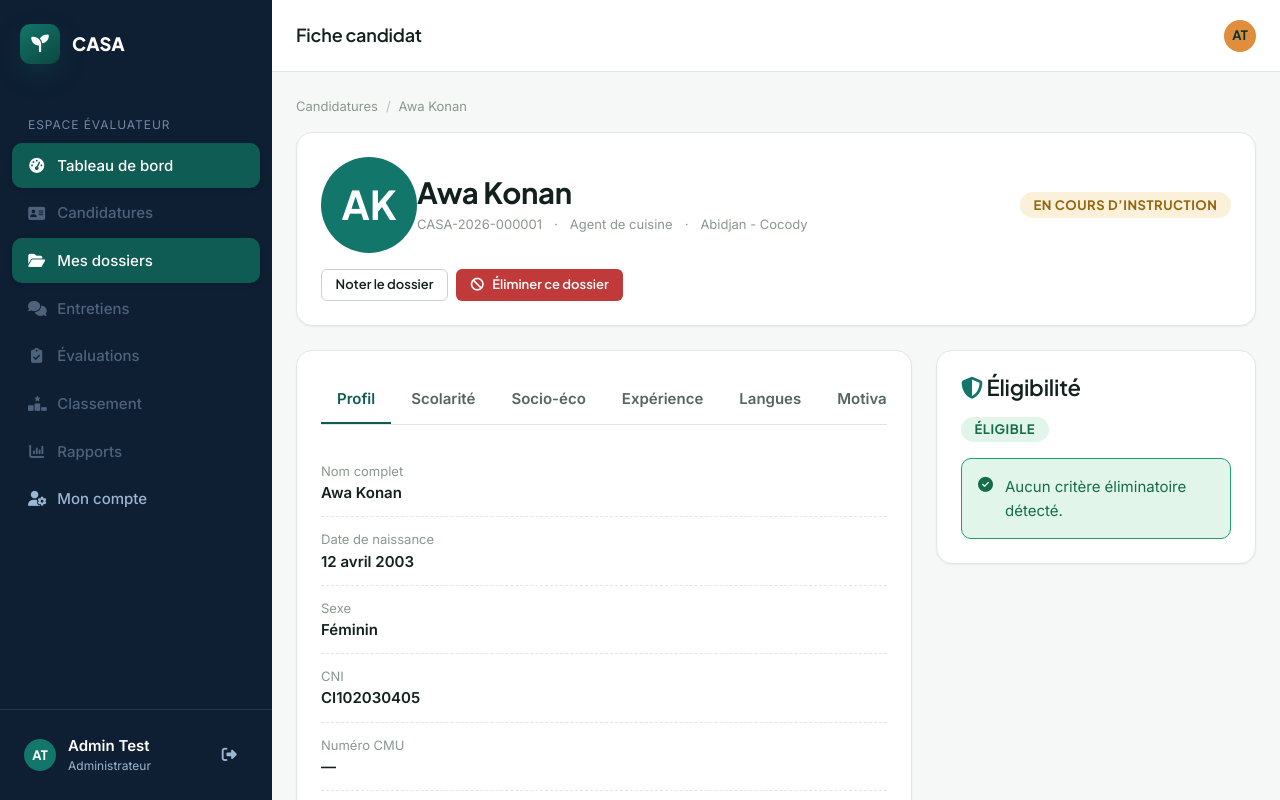
Test case: FicheCandidat — élimination manuelle (Lot 8d-3, administrateur uniquement) › 422 (motif jugé insuffisant côté backend) -> message affiché verbatim, le modal reste ouvert
Expected: the heading "Awa Konan" is shown, x1=417 y1=174 x2=572 y2=211
Click the button "Éliminer ce dossier".
click(540, 285)  # box x1=456 y1=269 x2=623 y2=301
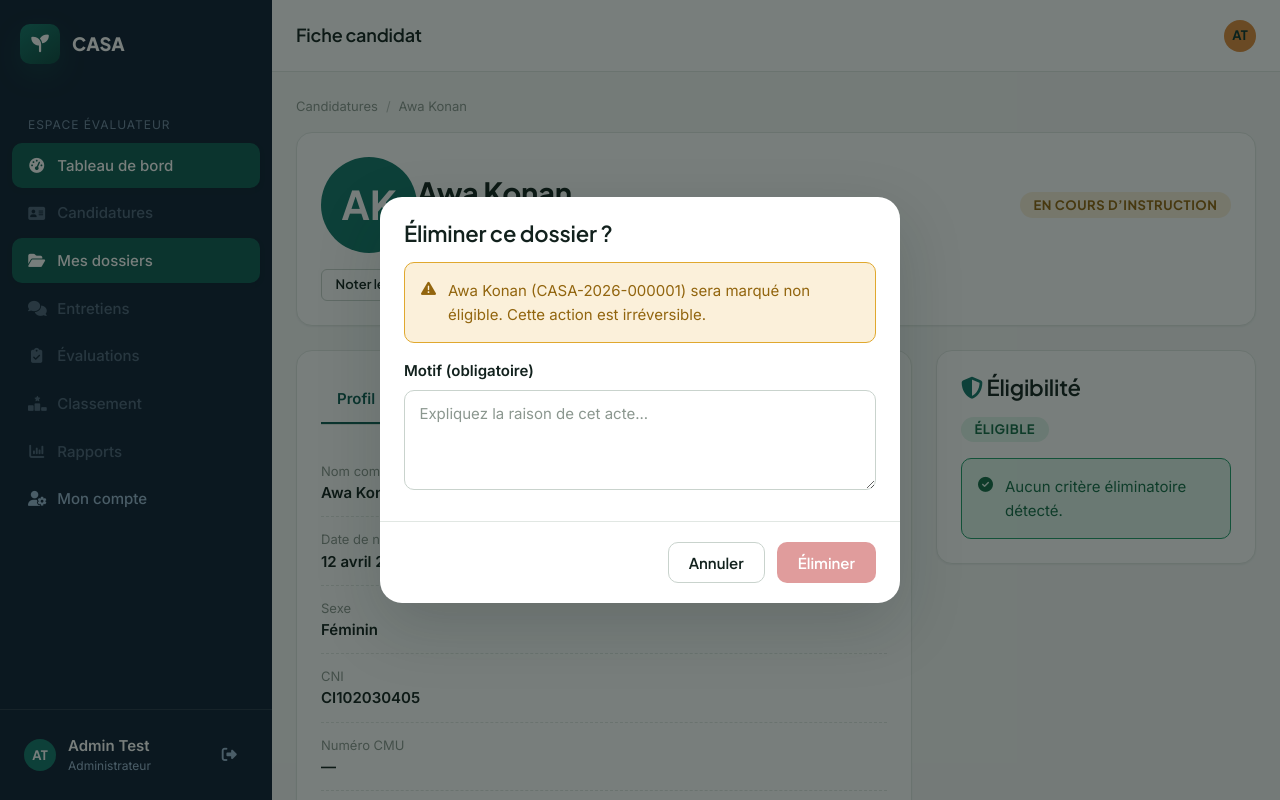
Type "Motif suffisant" into the text box labelled "Motif (obligatoire)".
click(640, 440); type("Motif suffisant")  # box x1=404 y1=390 x2=876 y2=490
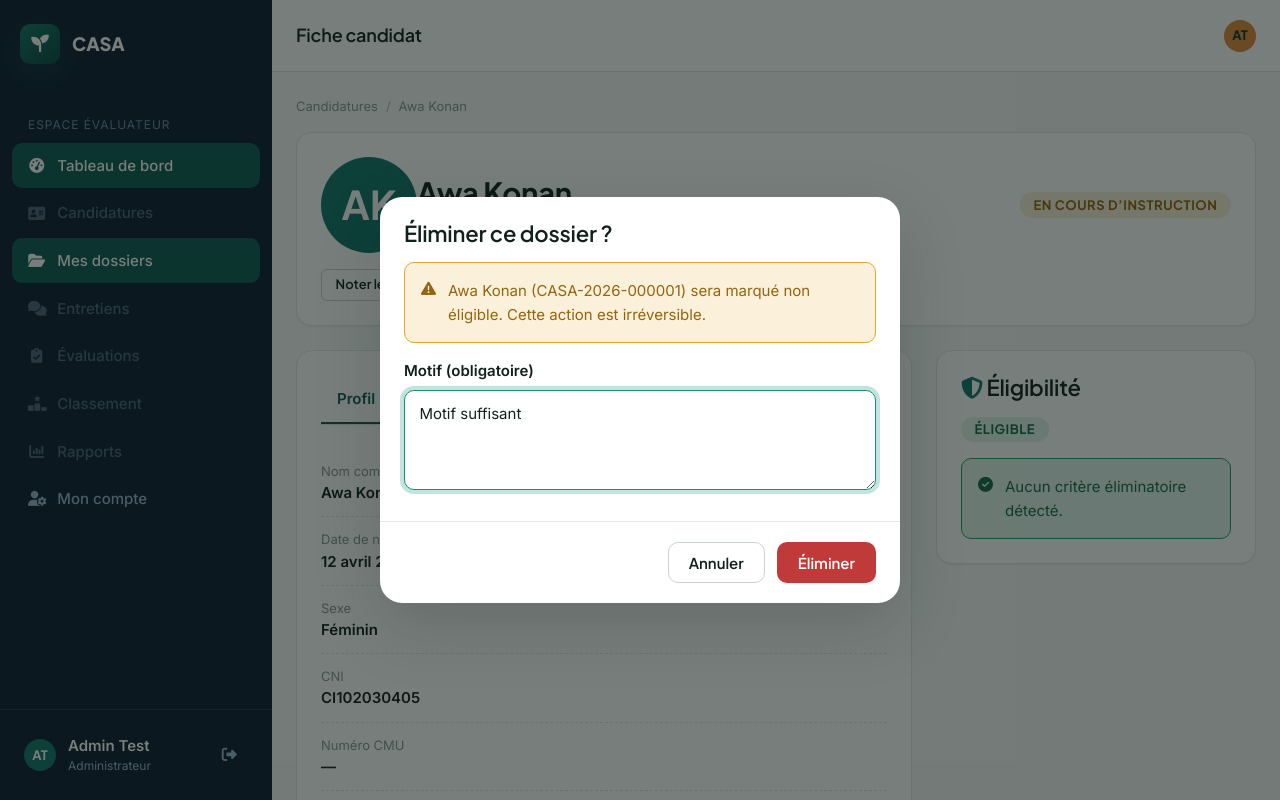
Click the button "Éliminer".
click(826, 562)  # box x1=777 y1=542 x2=876 y2=583
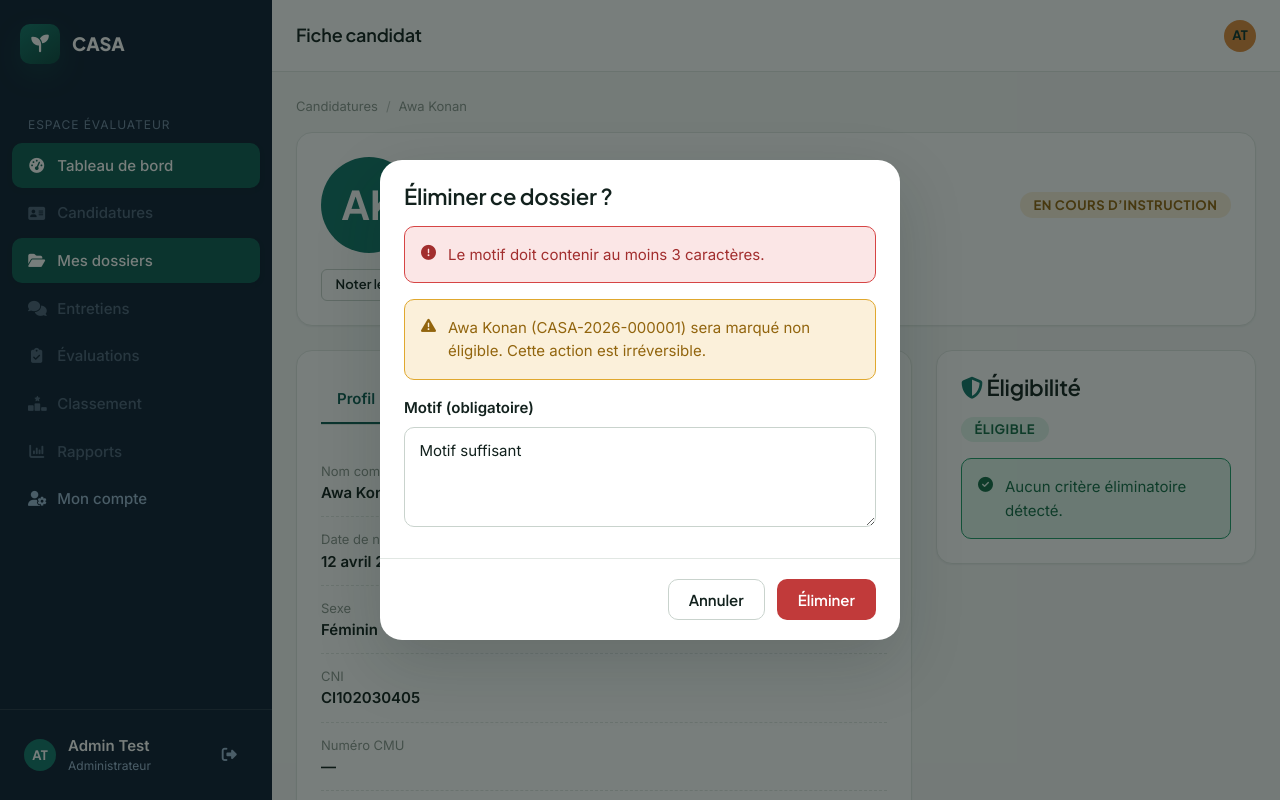
Now the dialog "Éliminer ce dossier ?" is shown
Now the text "Le motif doit contenir au moins 3 caractères." is shown, box x1=448 y1=243 x2=764 y2=266
